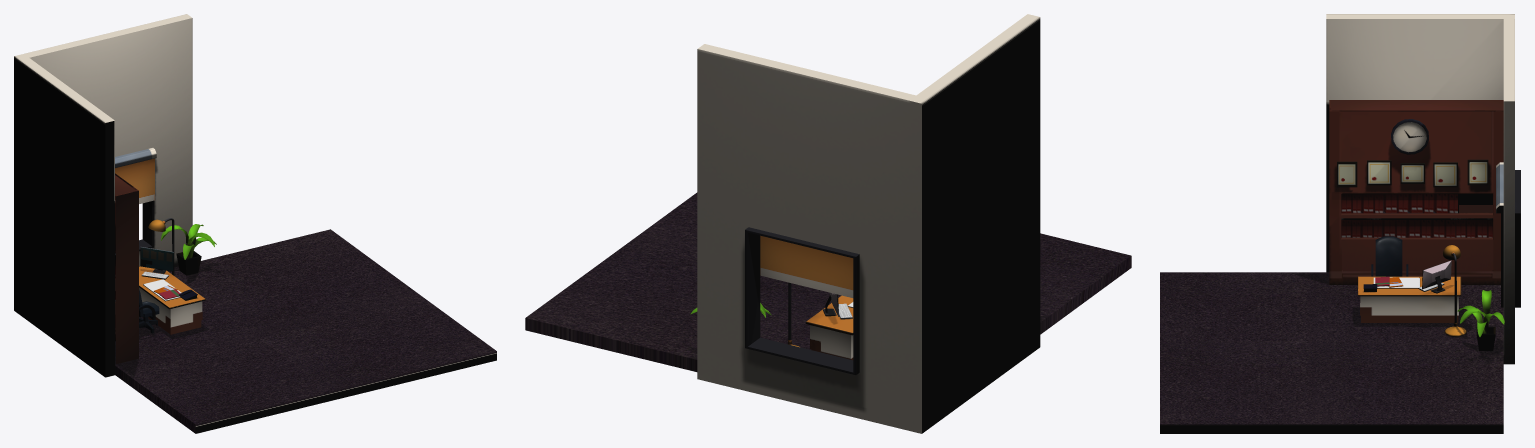
The model's file is Tx_Interior_Work_FancyOffice_2.fbx.
The picture shows the model from 3 angles, left to right: view 1: azimuth 30°, elevation 25°; view 2: azimuth 150°, elevation 25°; view 3: azimuth 270°, elevation 25°; orthographic projection. The views are drawn at different scales.
Parts seen in each view (by area): view 1: polySurface335, polySurface362, polySurface359, polySurface343, Plant1, polySurface356; view 2: polySurface335, polySurface343, polySurface359; view 3: polySurface335, polySurface362, polySurface359, polySurface371, polySurface370, polySurface352, Plant1, polySurface363, polySurface368, polySurface366, polySurface369, polySurface365 (+3 smaller).
Boxes of the visible parts, <box> form: polySurface335: <box>14,14,496,433</box>; polySurface362: <box>115,173,138,363</box>; polySurface359: <box>139,266,205,334</box>; polySurface343: <box>115,158,154,203</box>; Plant1: <box>161,224,216,275</box>; polySurface356: <box>140,247,174,271</box>; polySurface335: <box>525,14,1131,433</box>; polySurface343: <box>760,235,853,297</box>; polySurface359: <box>805,295,853,360</box>; polySurface335: <box>1160,14,1520,433</box>; polySurface362: <box>1329,100,1503,284</box>; polySurface359: <box>1358,276,1461,322</box>; polySurface371: <box>1341,218,1492,237</box>; polySurface370: <box>1341,194,1458,213</box>; polySurface352: <box>1375,236,1402,276</box>; Plant1: <box>1457,290,1504,350</box>; polySurface363: <box>1391,119,1428,154</box>; polySurface368: <box>1433,162,1457,187</box>; polySurface366: <box>1367,160,1391,185</box>; polySurface369: <box>1467,159,1488,185</box>; polySurface365: <box>1337,161,1357,187</box>.
Size of the model in its own units: 40.4 by 31.58 by 39.24.
1 material, 1 textured.
